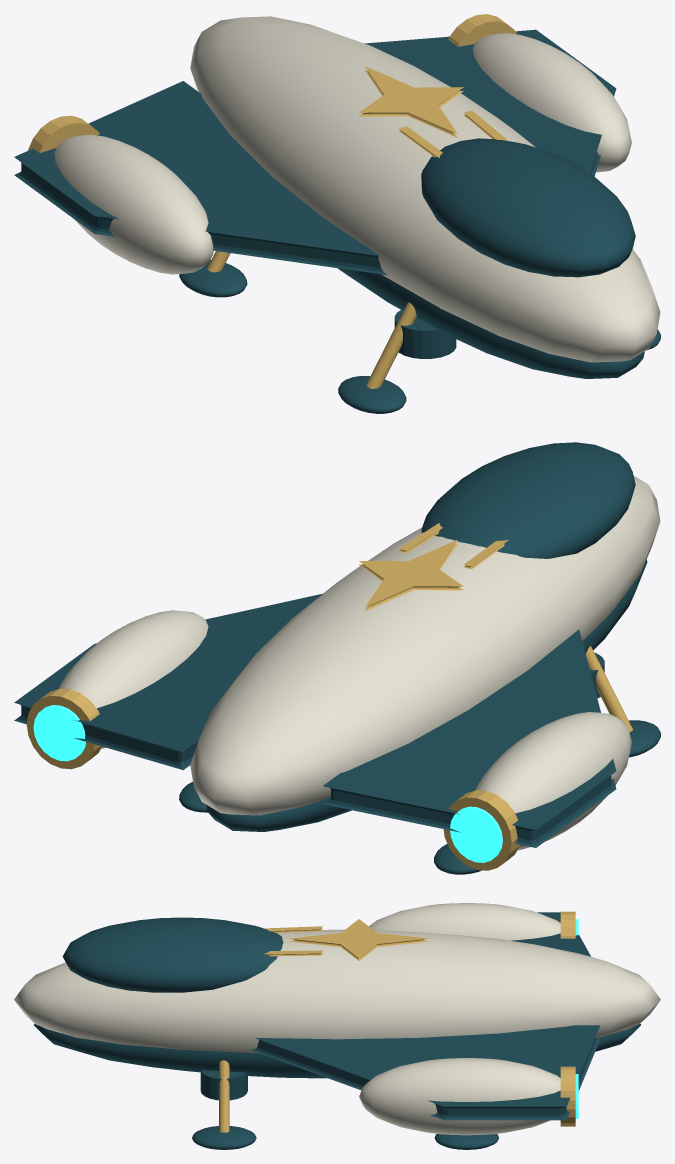
Rendered from Neris-Orbital-0.glb.
3 views of the same model, one above another, from view 1: azimuth 30°, elevation 25°; view 2: azimuth 150°, elevation 25°; view 3: azimuth 270°, elevation 25° (orthographic). The views are drawn at different scales.
Parts seen in each view (by area): view 1: Neris Ceramic, Neris Thermal Teal, Neris Gold; view 2: Neris Ceramic, Neris Thermal Teal, Neris Gold, Neris Ion; view 3: Neris Ceramic, Neris Thermal Teal, Neris Gold.
Part boxes in pixels (x1,y1,x2,y2): Neris Ceramic: (54, 16, 660, 362); Neris Thermal Teal: (14, 29, 660, 413); Neris Gold: (28, 14, 620, 388); Neris Ceramic: (58, 476, 660, 850); Neris Thermal Teal: (14, 442, 660, 874); Neris Gold: (26, 523, 633, 870); Neris Ion: (33, 705, 502, 862); Neris Ceramic: (14, 903, 660, 1135); Neris Thermal Teal: (34, 912, 640, 1149); Neris Gold: (219, 911, 575, 1132).
Bounding box in the file's own units: 21.32 × 8.6 × 30.
